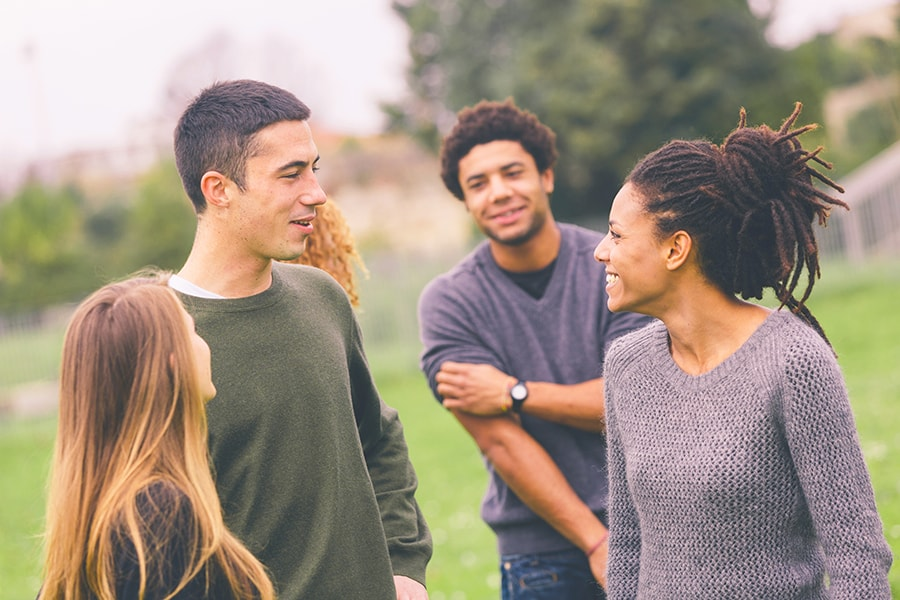Head: (199, 79, 327, 260), (593, 137, 692, 314), (458, 101, 554, 246), (163, 273, 218, 402)
